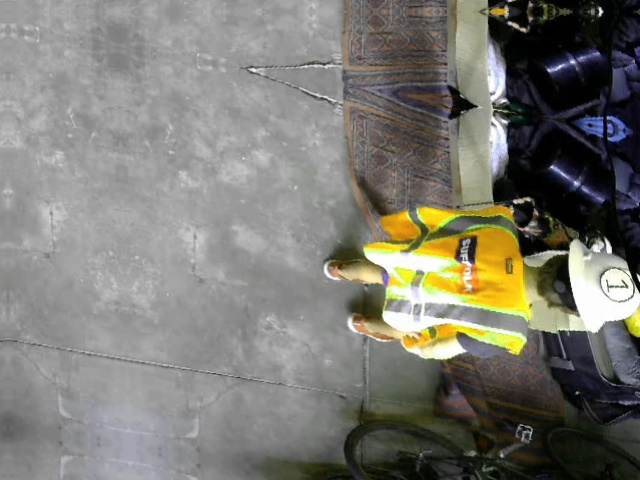one: (599, 264, 634, 304)
